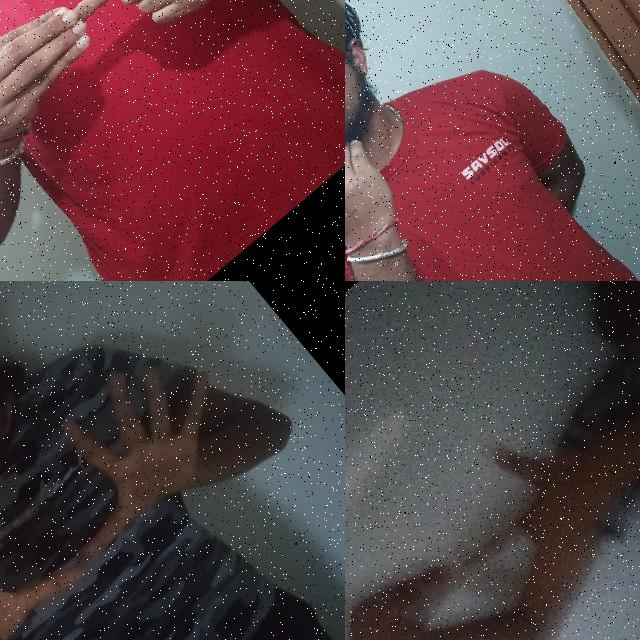Chin Flick: (345, 0, 460, 274)
Five Fathers: (345, 366, 640, 640), (0, 0, 287, 183)
Moutza: (0, 318, 274, 599), (0, 452, 112, 640)
